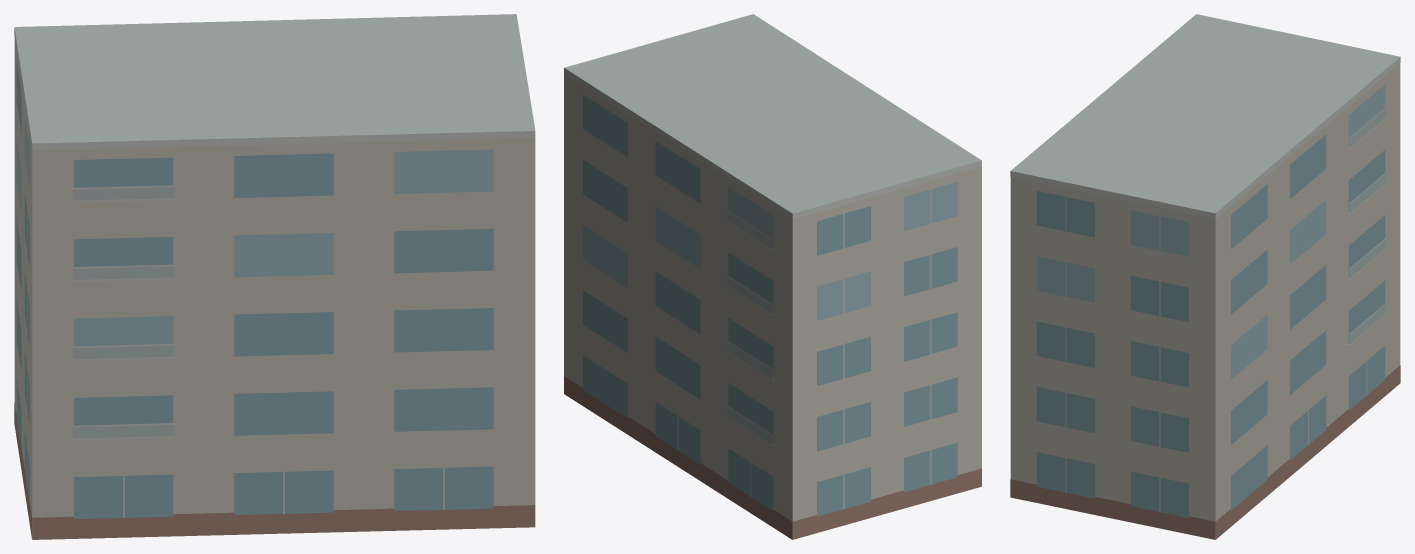
The model's file is survey-upis-32893089.glb.
3 views of the same model, side by side, from view 1: azimuth 30°, elevation 25°; view 2: azimuth 150°, elevation 25°; view 3: azimuth 270°, elevation 25° (orthographic). The views are drawn at different scales.
Visible parts, largest first — view 1: survey-upis-32893089.tmp; view 2: survey-upis-32893089.tmp; view 3: survey-upis-32893089.tmp.
Part boxes in pixels (box(x1,y1,x2,y2)): survey-upis-32893089.tmp: box(14, 14, 535, 539); survey-upis-32893089.tmp: box(564, 14, 981, 539); survey-upis-32893089.tmp: box(1010, 14, 1400, 539).
Size of the model in its own units: 17.62 by 13.45 by 14.57.
